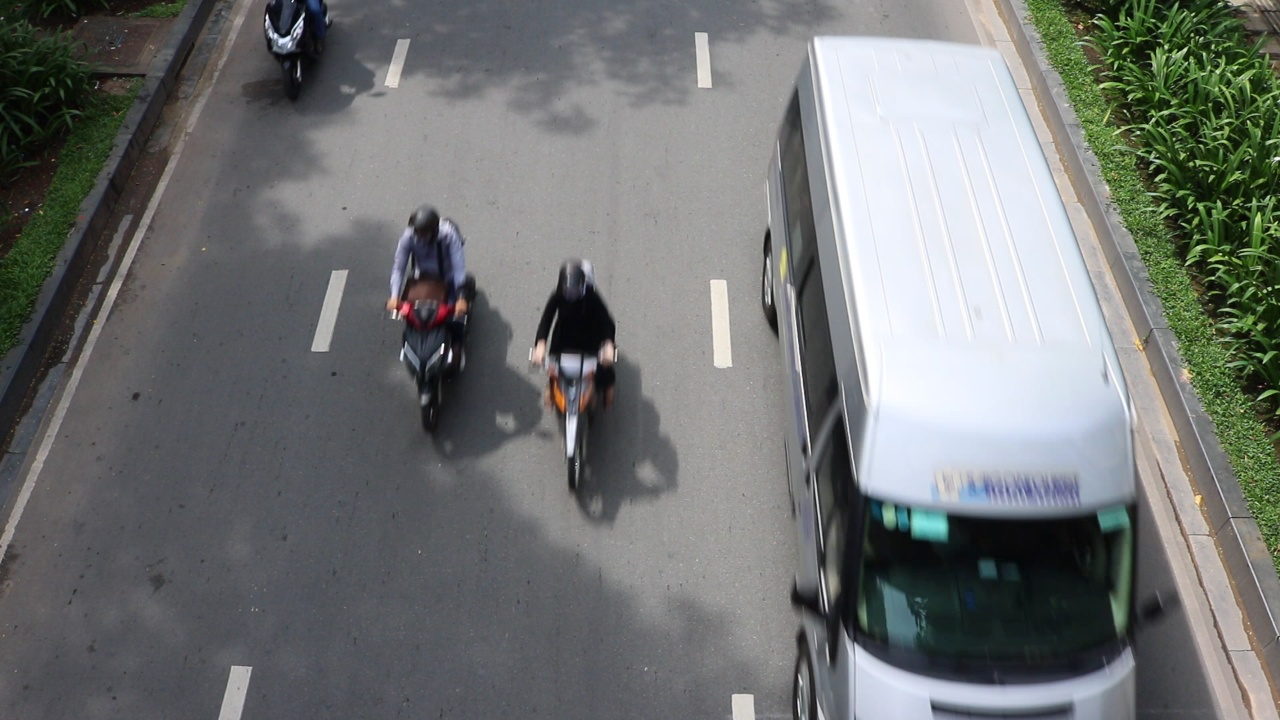motorcycle: (533, 341, 619, 498), (392, 289, 473, 432), (262, 1, 330, 102)
